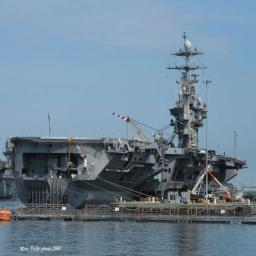Portanaves: (11, 32, 249, 210)
